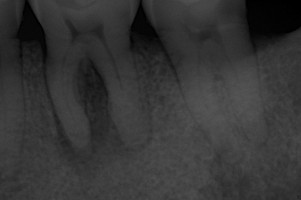Dental Caries: (51, 56, 153, 171)
